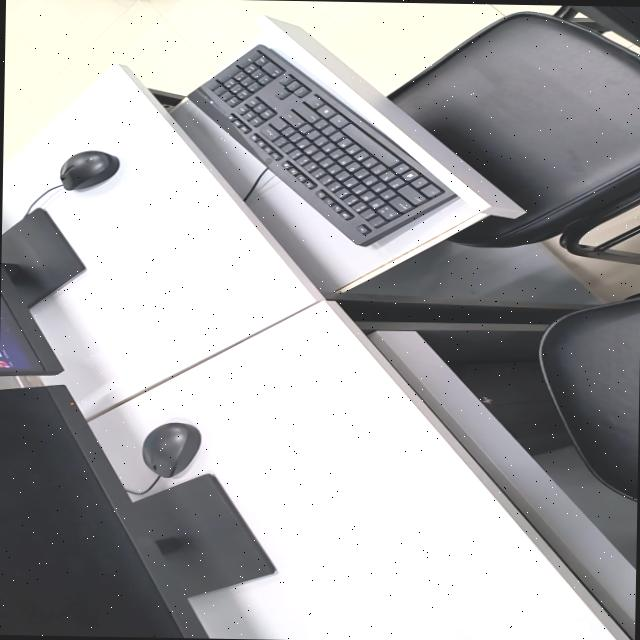Chair: (389, 4, 640, 263), (539, 293, 640, 501)
Keyboard: (197, 45, 456, 245)
Monitor: (0, 386, 184, 638), (0, 260, 61, 374)
Mouse: (142, 421, 200, 476), (60, 149, 118, 189)
